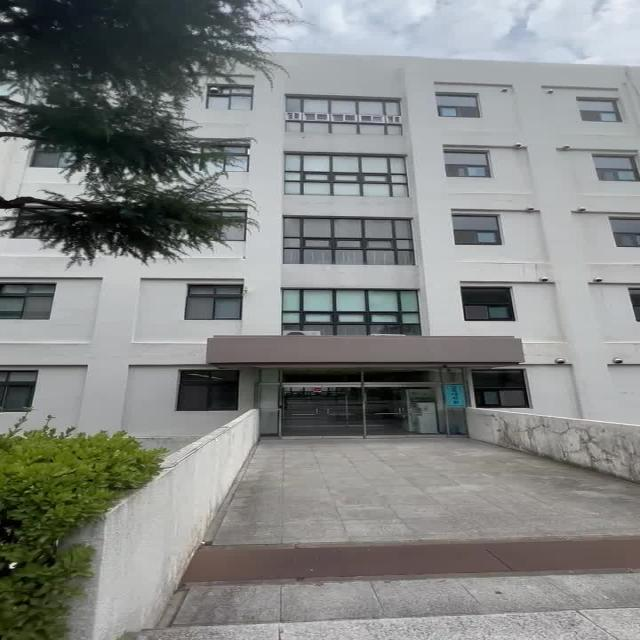building: (211, 66, 640, 423)
